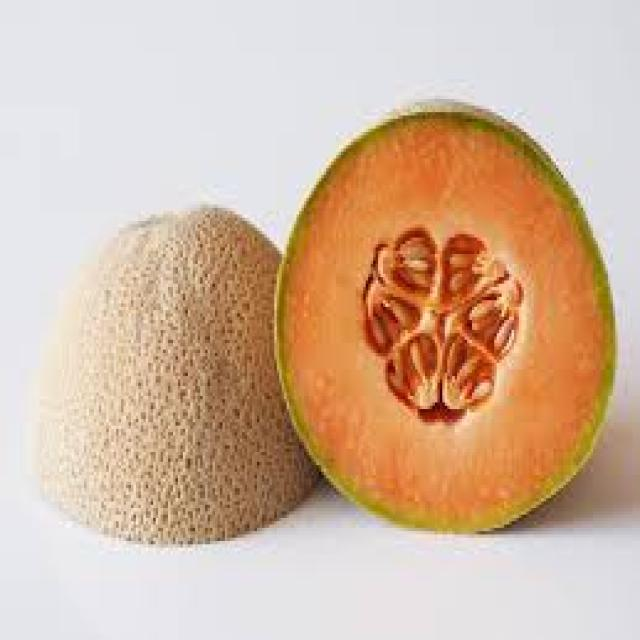cantaloupe: (272, 96, 618, 538), (31, 202, 325, 544)
